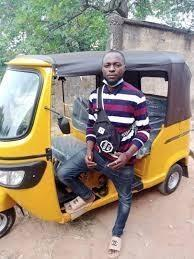keke: (1, 52, 194, 238)
